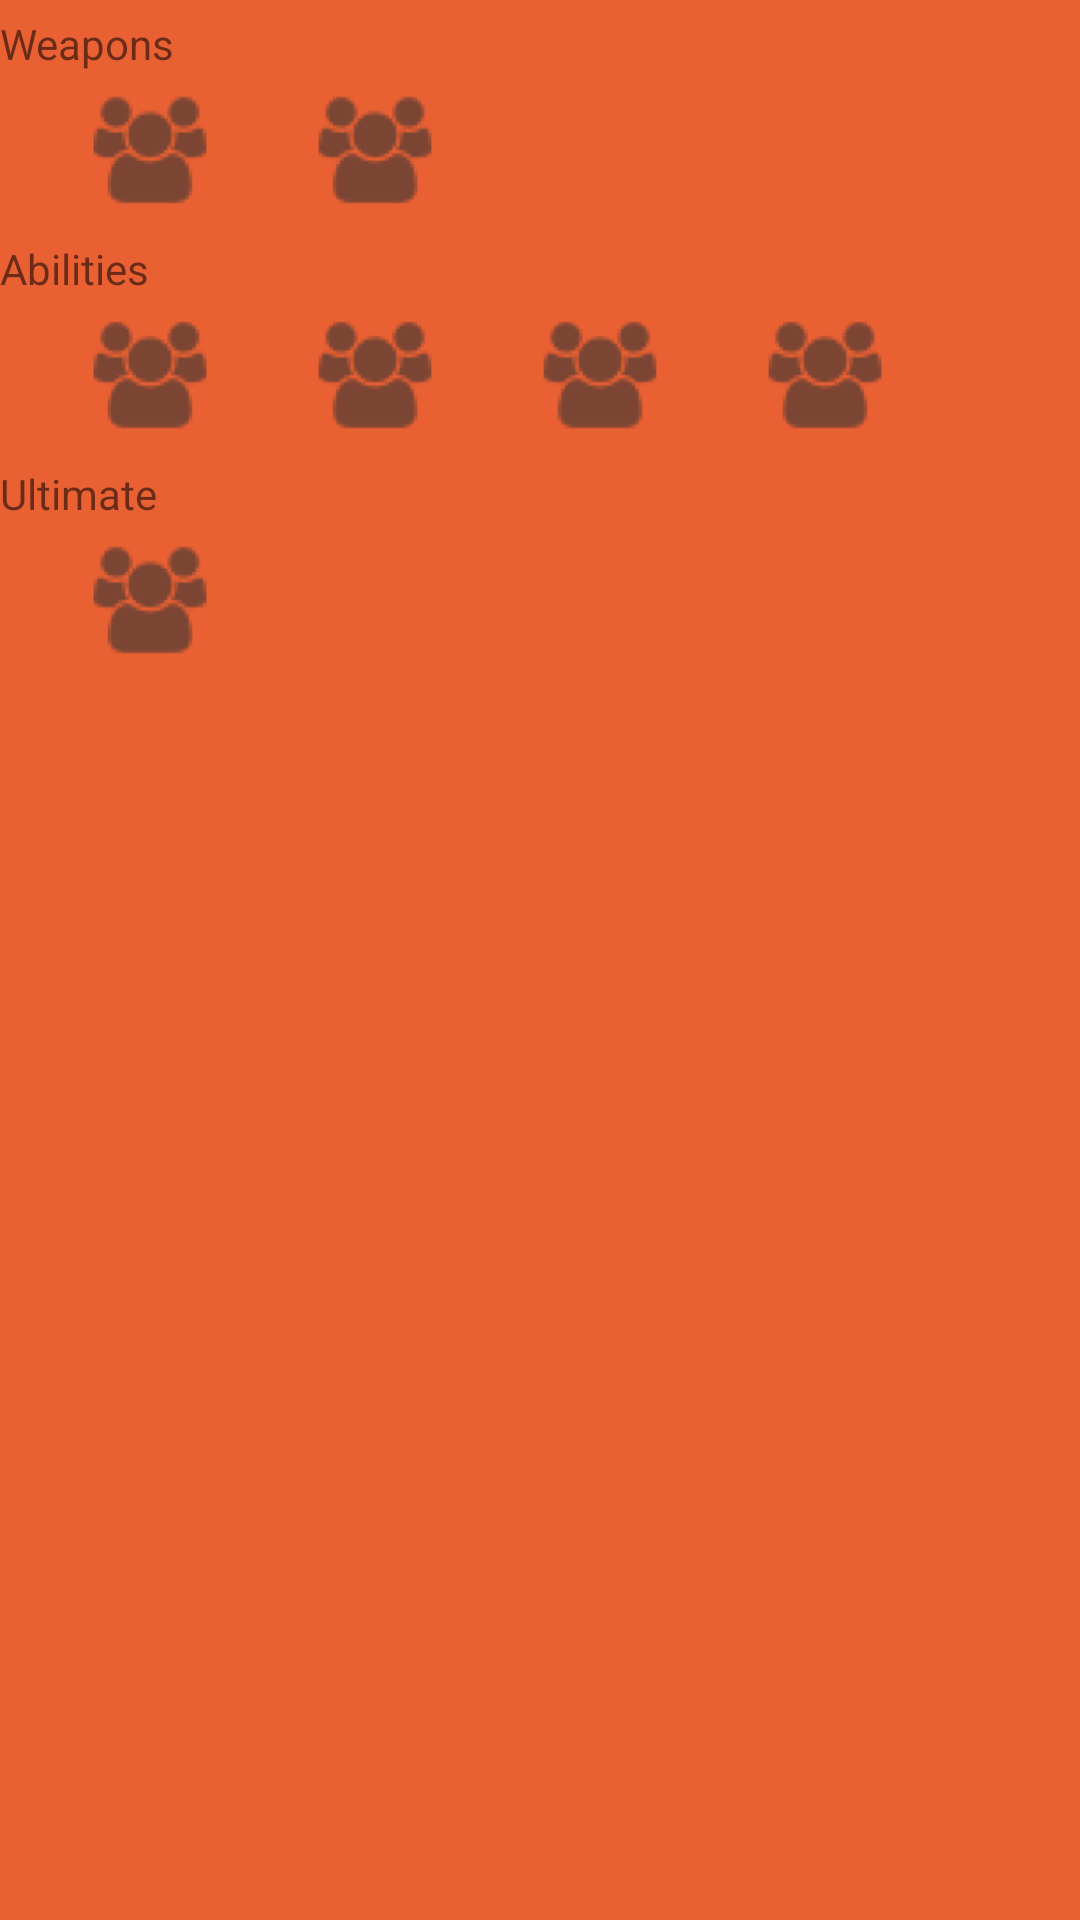

Locate icon controls on the screen. Image size 1080 x 1920, boxes as (x1,y1,x2,y2).
unit: (93,97,207,203), (318,97,432,203), (93,322,207,428), (318,322,432,428), (543,322,657,428), (768,322,882,428), (93,547,207,653)
